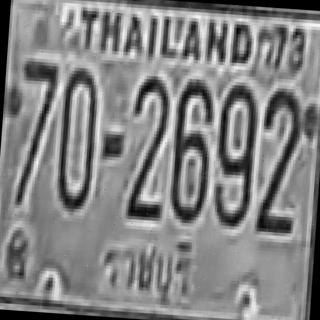N00: (54, 64, 100, 210)
N02: (254, 87, 304, 227), (124, 72, 170, 218), (255, 85, 303, 216), (125, 73, 171, 206)
N06: (168, 74, 214, 220)
N07: (13, 57, 57, 207)
N09: (212, 81, 258, 224)
P04: (94, 228, 198, 314)
